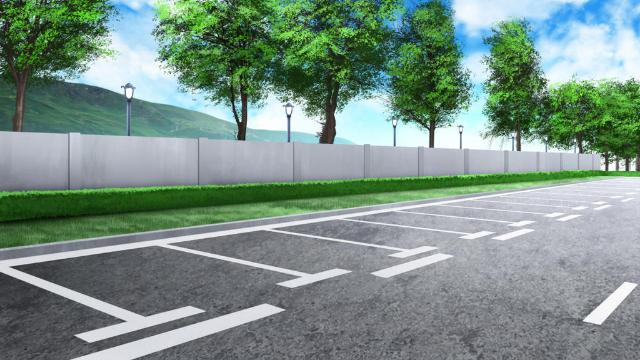Empty-Filled: (8, 239, 309, 321), (161, 227, 427, 279), (269, 215, 477, 255), (347, 211, 518, 235), (393, 203, 557, 225), (439, 198, 581, 216)
